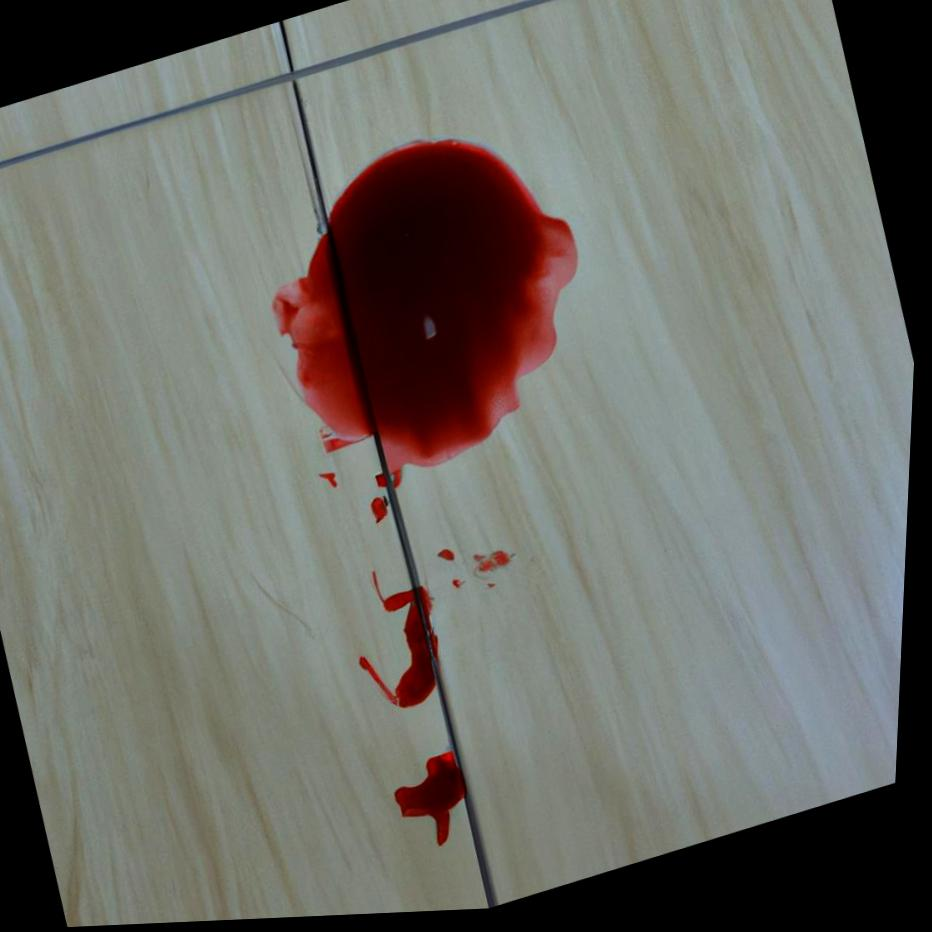Fire: (274, 142, 580, 491), (388, 592, 442, 711), (423, 589, 445, 666)
